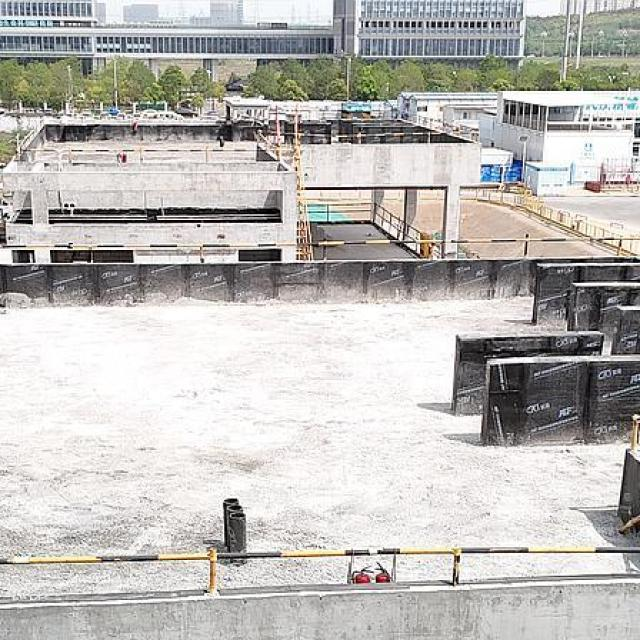edge_guardrail: (0, 546, 640, 595), (13, 109, 481, 165), (0, 233, 640, 264), (375, 203, 421, 240), (307, 202, 372, 222), (618, 513, 640, 535)
